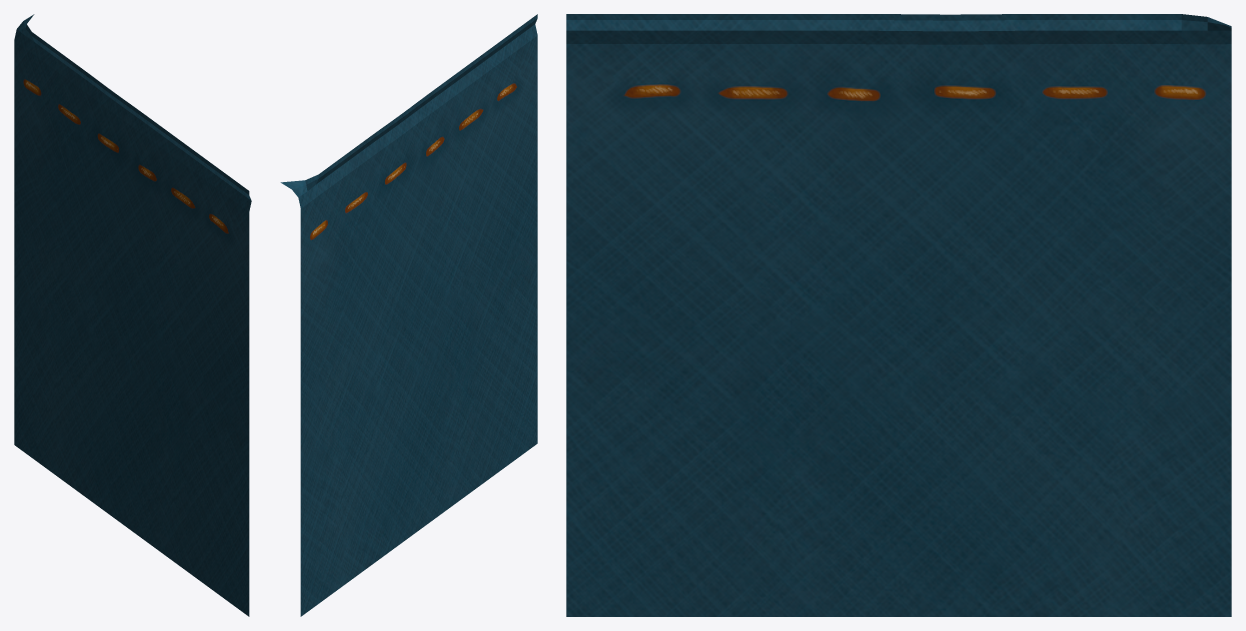
The model's file is tl_jean_endplane_left.FBX.
3 views of the same model, side by side, from view 1: azimuth 30°, elevation 25°; view 2: azimuth 150°, elevation 25°; view 3: azimuth 270°, elevation 25° (orthographic). The views are drawn at different scales.
Parts seen in each view (by area): view 1: tl_endplaneleft; view 2: tl_endplaneleft; view 3: tl_endplaneleft.
Boxes of the visible parts, left/top/right/bottom form: tl_endplaneleft: left=14, top=14, right=251, bottom=616; tl_endplaneleft: left=280, top=14, right=537, bottom=616; tl_endplaneleft: left=566, top=14, right=1231, bottom=616.
Size of the model in its own units: 5 by 100 by 100.
